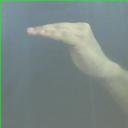hand: (26, 23, 116, 81)
